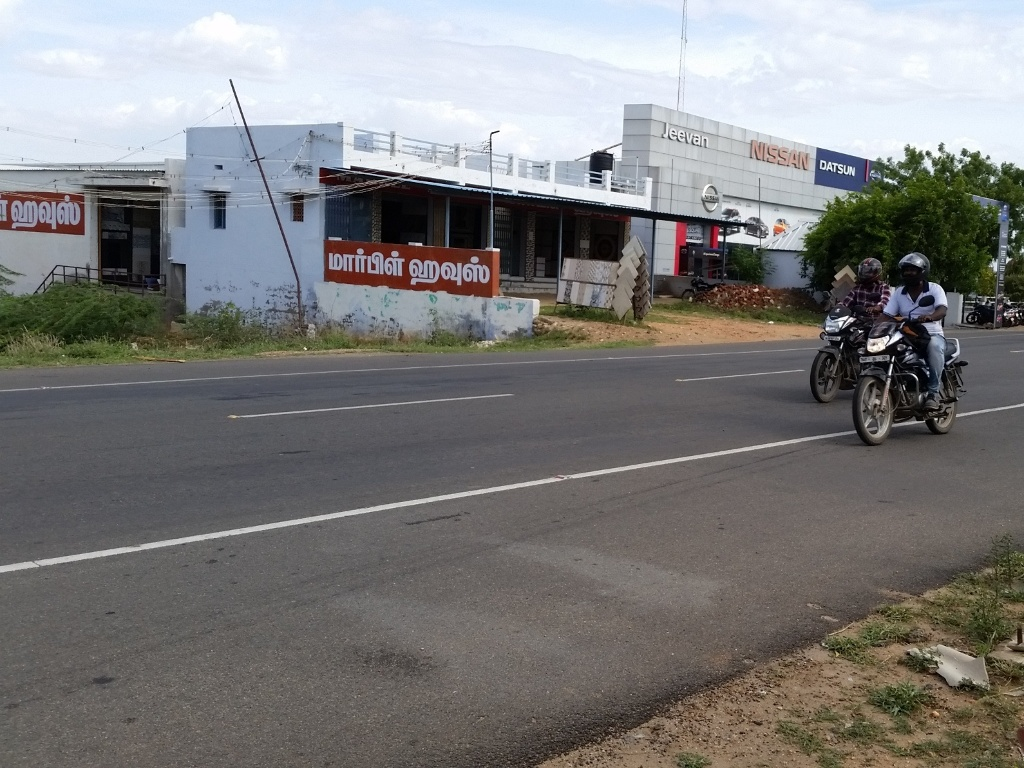biker: (791, 211, 991, 452)
helmet: (896, 242, 942, 298), (845, 244, 891, 300)
